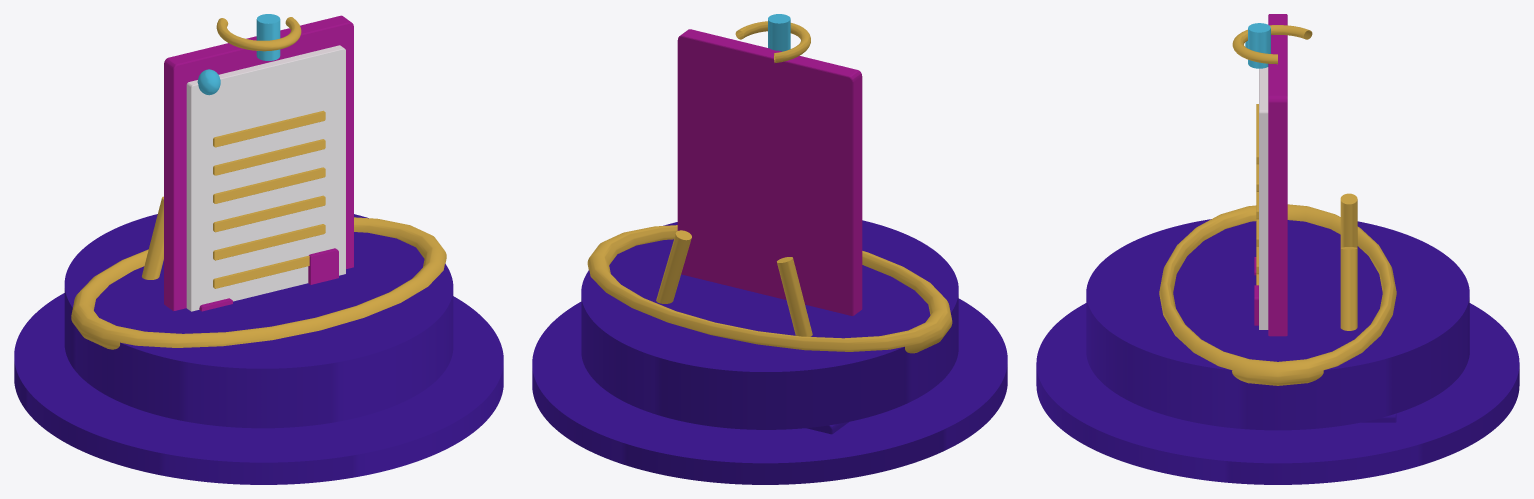
The model's file is 0256_世界古代文明图鉴_楔形文字泥板.glb.
3 renders of one model, left to right at view 1: azimuth 30°, elevation 25°; view 2: azimuth 150°, elevation 25°; view 3: azimuth 270°, elevation 25°, orthographic. The views are drawn at different scales.
Visible parts, largest first — view 1: card_0256; view 2: card_0256; view 3: card_0256.
Boxes of the visible parts, bbox=[...] form: card_0256: bbox=[14, 14, 503, 484]; card_0256: bbox=[532, 14, 1007, 484]; card_0256: bbox=[1036, 14, 1519, 484].
Bounding box in the file's own units: 1.2 × 1 × 1.23.
